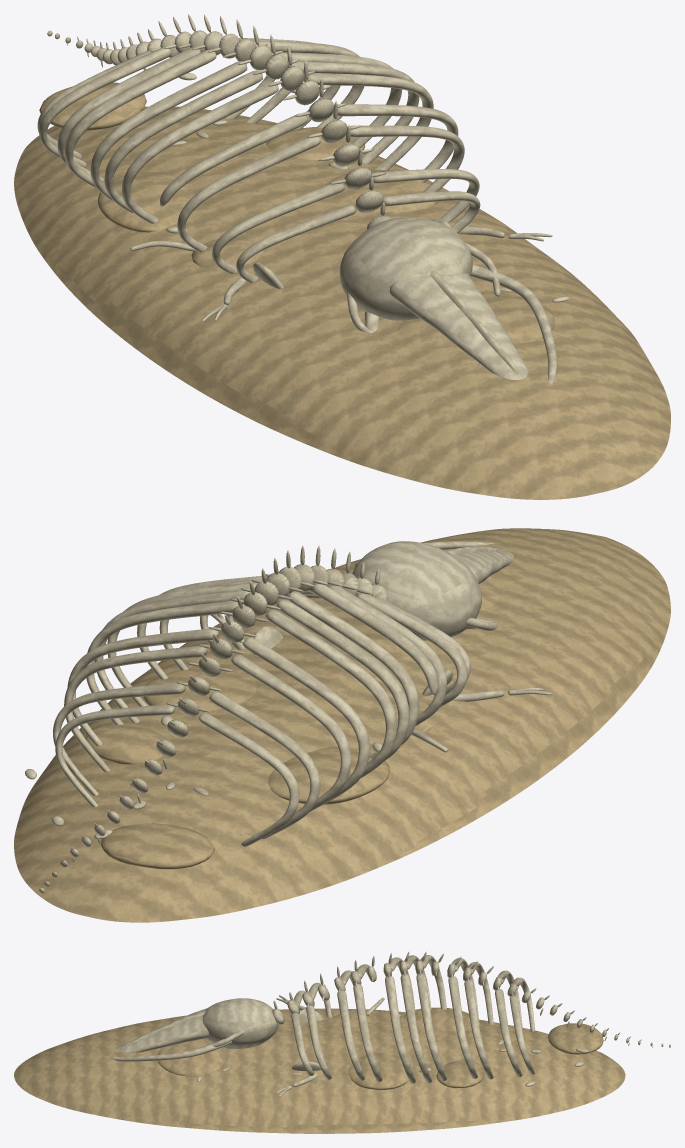
The model's file is whale_skeleton.glb.
3 renders of one model, top to bottom at view 1: azimuth 30°, elevation 25°; view 2: azimuth 150°, elevation 25°; view 3: azimuth 270°, elevation 25°, orthographic. The views are drawn at different scales.
Visible parts, largest first — view 1: whale_skeleton; view 2: whale_skeleton; view 3: whale_skeleton.
Part boxes in pixels (bbox=[...]): whale_skeleton: bbox=[14, 14, 670, 499]; whale_skeleton: bbox=[14, 528, 670, 922]; whale_skeleton: bbox=[14, 951, 670, 1133].
Bounding box in the file's own units: 11.14 × 5.65 × 26.64.
3 materials, 3 textured.
